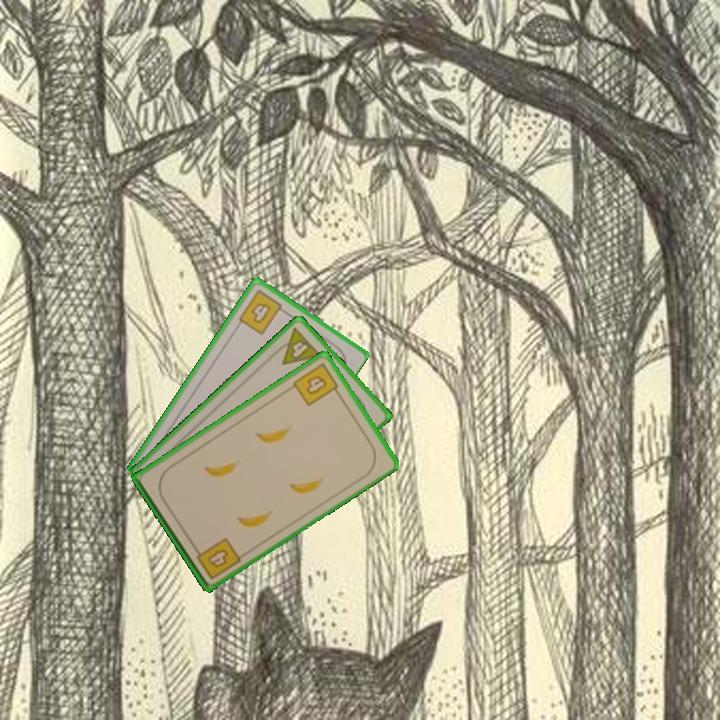4b: (235, 286, 289, 338), (289, 359, 343, 409), (190, 534, 244, 582)
4p: (269, 324, 324, 368)
